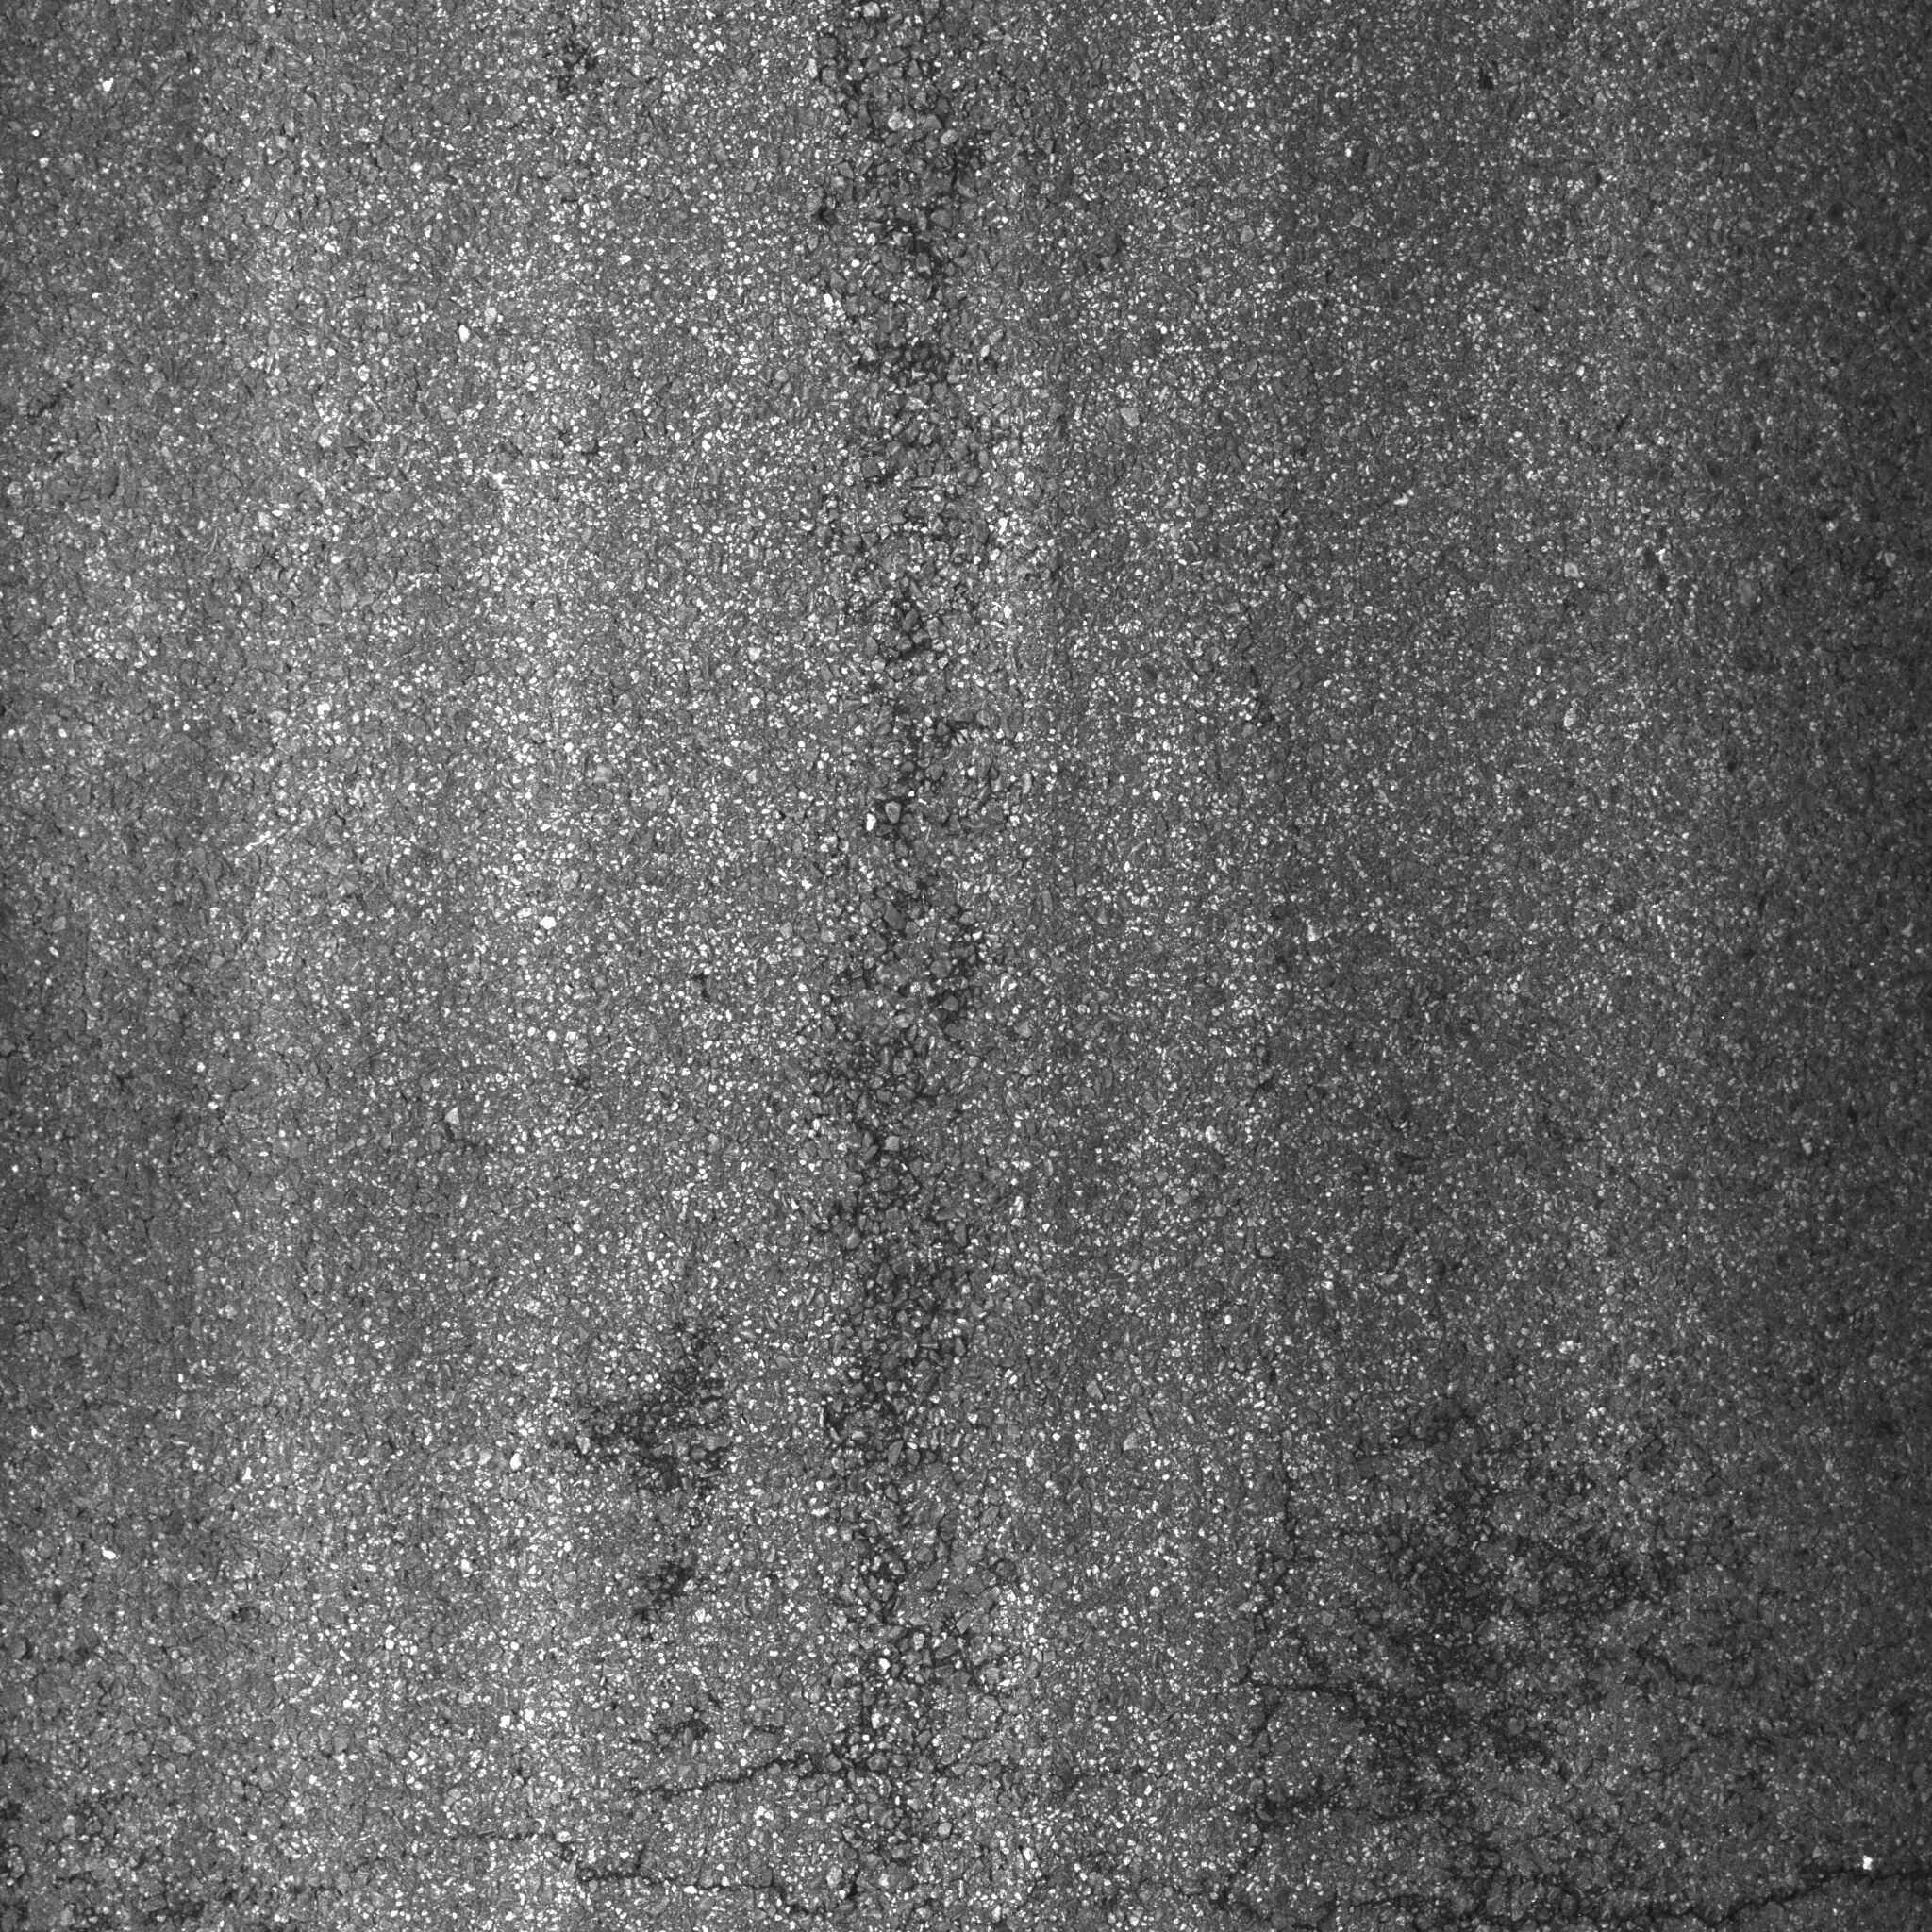alligator: (586, 1330, 1881, 1932)
